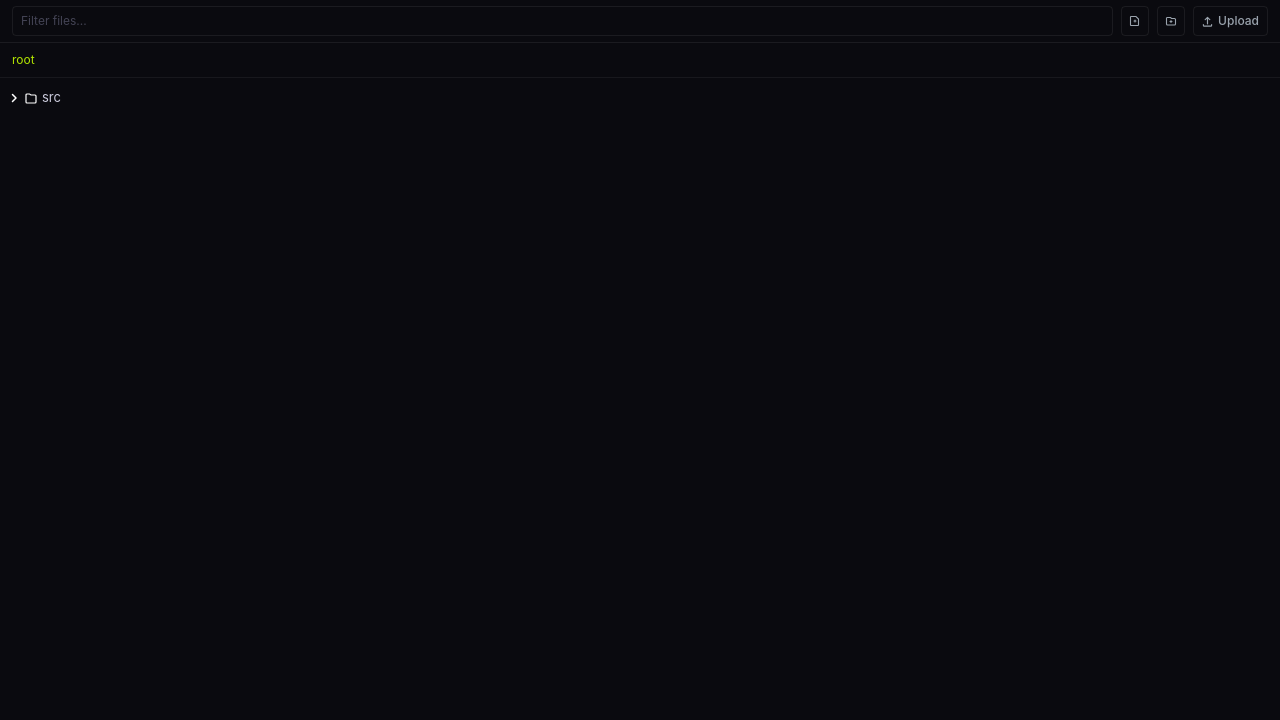
Scenario: FileTree › shows create modal from context menu
Expected: the text "src" is shown, [42, 88, 61, 108]
Right-click the list item "src" at (34, 97), box [8, 89, 61, 105]
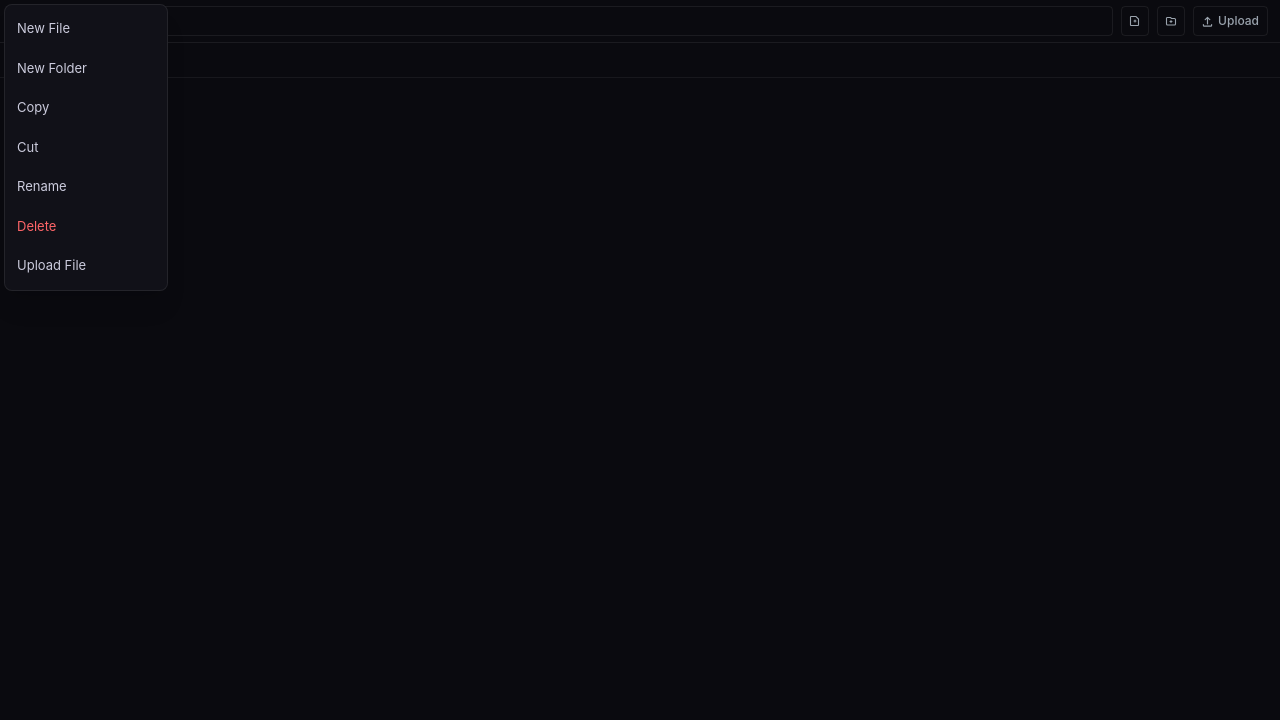
Now the element with test id "context-menu" is shown, box [4, 4, 168, 290]
Click the button "New File" at (86, 29), box [5, 9, 167, 48]
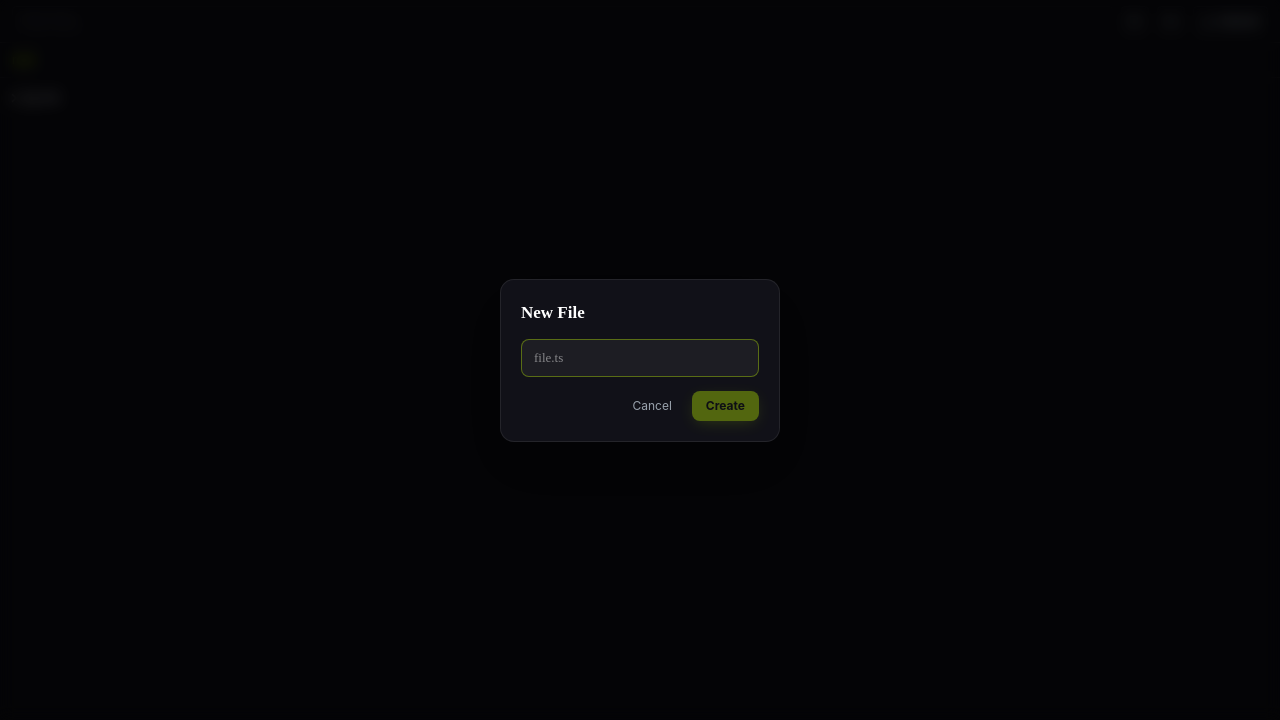
Now the element with test id "create-modal" is shown
Now the field with test id "create-input" is shown, box [521, 339, 759, 376]
